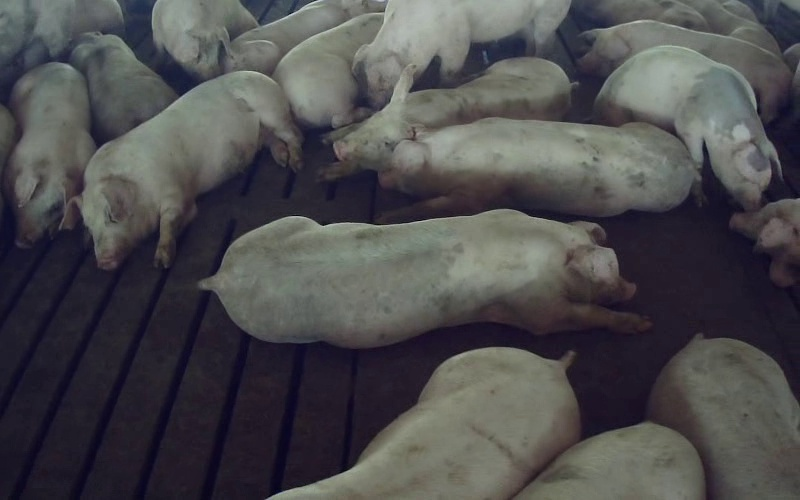pig: (64, 71, 301, 269), (270, 347, 578, 499), (379, 118, 698, 220), (317, 57, 572, 179), (595, 46, 780, 210), (647, 335, 799, 499), (353, 0, 570, 107), (577, 20, 791, 123), (3, 62, 95, 247), (513, 422, 704, 499), (272, 13, 382, 127), (69, 32, 177, 144), (152, 0, 257, 80)
